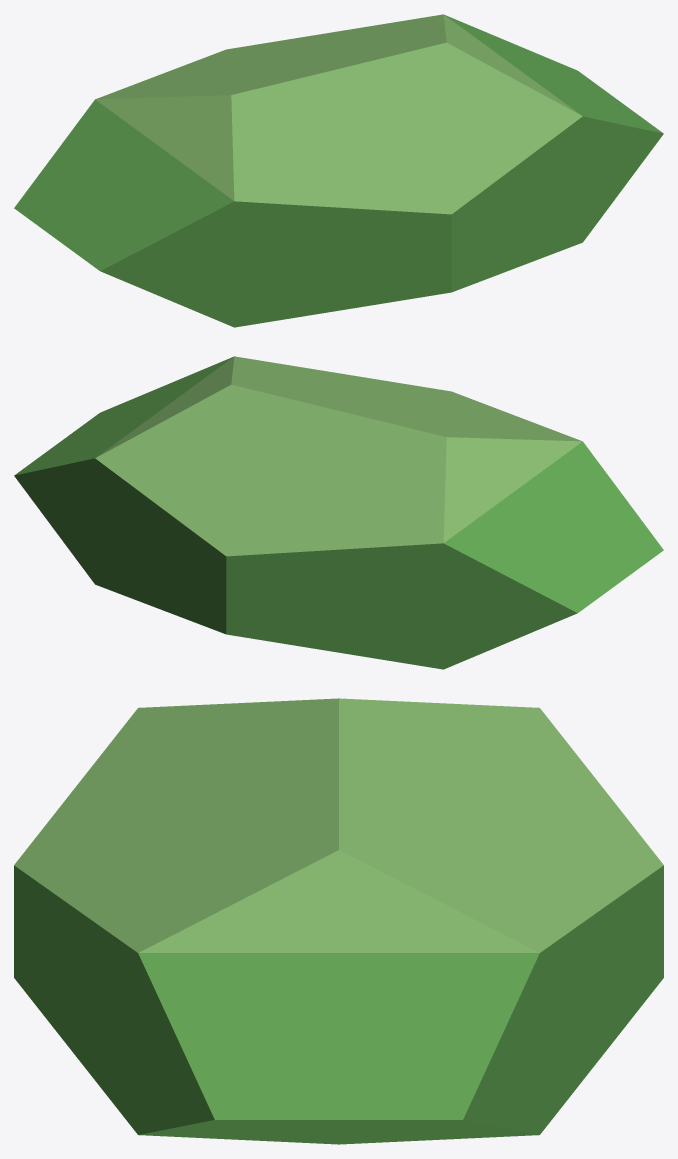
The model's file is biome-clover-hill.glb.
3 renders of one model, top to bottom at view 1: azimuth 30°, elevation 25°; view 2: azimuth 150°, elevation 25°; view 3: azimuth 270°, elevation 25°, orthographic. The views are drawn at different scales.
Size of the model in its own units: 4.86 by 1.68 by 3.36.
